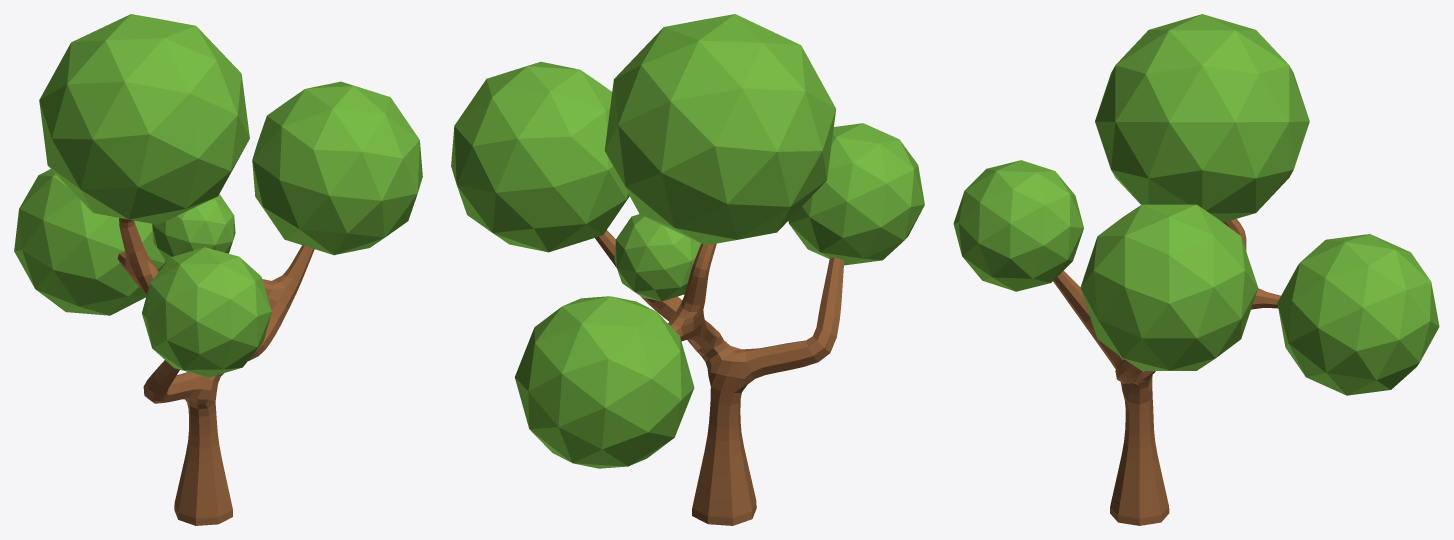
File: Tree_03.fbx
The picture shows the model from 3 angles, left to right: view 1: azimuth 30°, elevation 25°; view 2: azimuth 150°, elevation 25°; view 3: azimuth 270°, elevation 25°; orthographic projection. The views are drawn at different scales.
Parts seen in each view (by area): view 1: Tree_03; view 2: Tree_03; view 3: Tree_03.
Part boxes in pixels (x1,y1,x2,y2): Tree_03: (14,14,422,525); Tree_03: (451,14,924,525); Tree_03: (953,14,1439,525).
Bounding box in the file's own units: 489 × 639 × 598.
